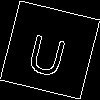U: (24, 24, 71, 79)
